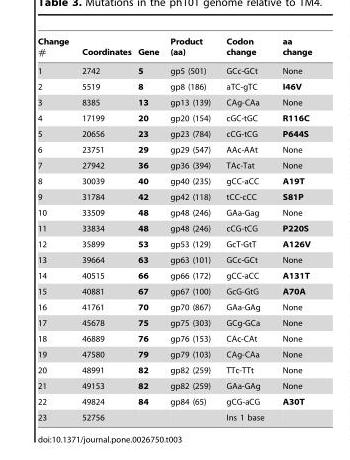table: (37, 36, 311, 421)
table column: (74, 36, 133, 421), (217, 36, 272, 421), (164, 36, 217, 421), (272, 36, 311, 421), (37, 36, 74, 421), (133, 36, 164, 421)
table column header: (37, 36, 311, 61)
table row: (37, 36, 311, 61), (37, 61, 311, 78), (37, 78, 311, 94), (37, 94, 311, 110), (37, 125, 311, 141), (37, 141, 311, 157), (37, 157, 311, 173), (37, 188, 311, 204), (37, 204, 311, 220), (37, 220, 311, 236), (37, 251, 311, 267), (37, 267, 311, 283), (37, 283, 311, 299), (37, 314, 311, 330), (37, 330, 311, 346), (37, 346, 311, 362), (37, 377, 311, 393), (37, 393, 311, 409), (37, 110, 311, 125), (37, 173, 311, 188), (37, 236, 311, 251), (37, 299, 311, 314), (37, 362, 311, 377), (37, 409, 311, 421)
